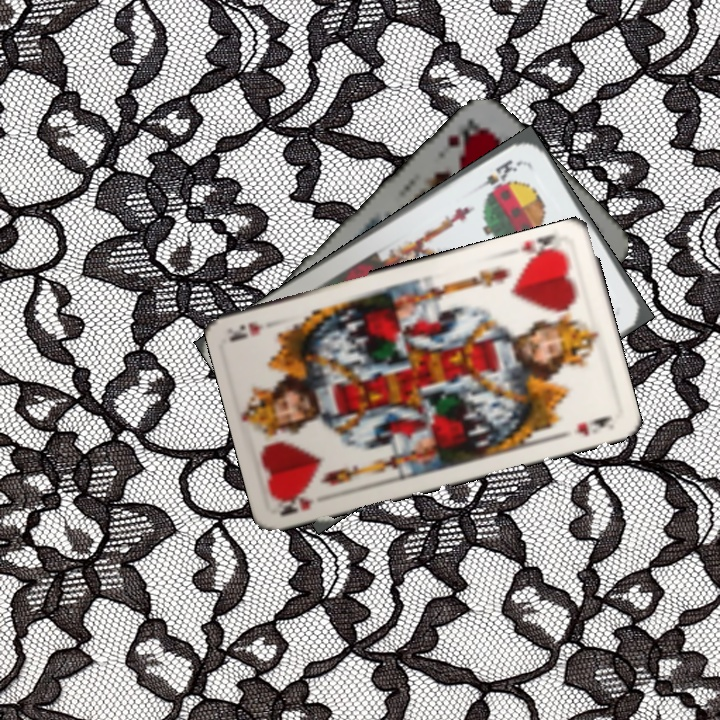HK: (438, 115, 488, 157), (516, 230, 570, 266), (274, 488, 317, 519)
SK: (470, 155, 524, 194)
